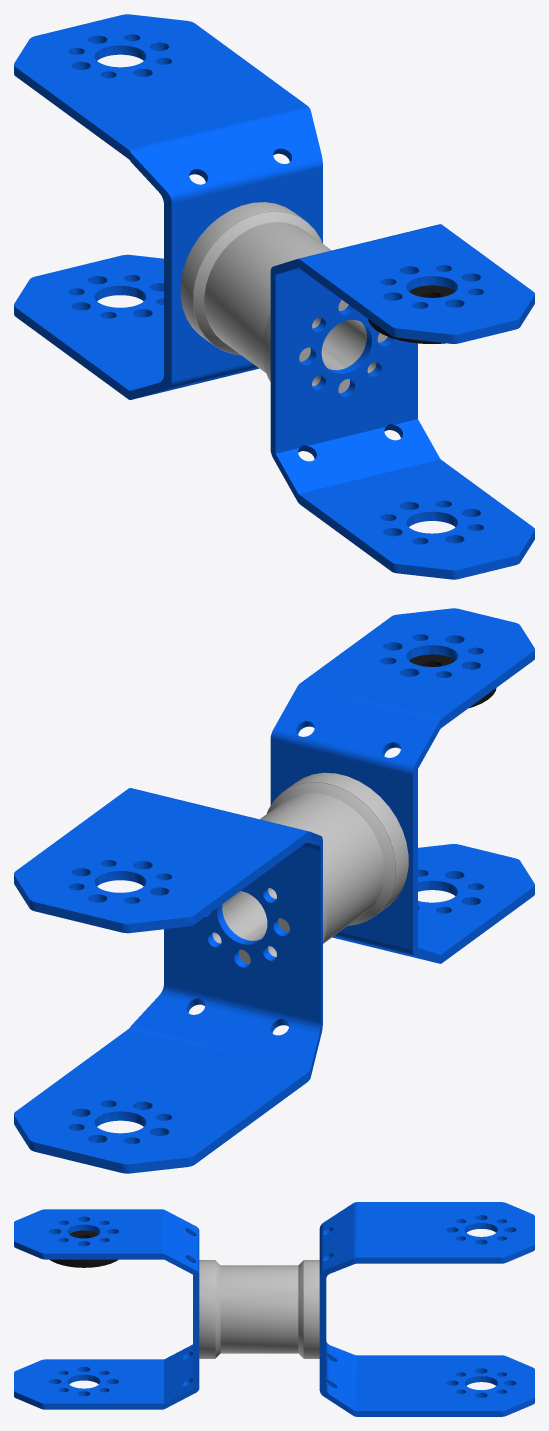
File: xarm-s5.obj
3 views of the same model, one above another, from view 1: azimuth 30°, elevation 25°; view 2: azimuth 150°, elevation 25°; view 3: azimuth 270°, elevation 25° (orthographic). The views are drawn at different scales.
Parts seen in each view (by area): view 1: Servo_5_Plate, Servo_5_to_Servo_4_Plate, Arm_5_to_4, Circumference.004; view 2: Servo_5_Plate, Servo_5_to_Servo_4_Plate, Arm_5_to_4; view 3: Servo_5_Plate, Servo_5_to_Servo_4_Plate, Arm_5_to_4, Circumference.004.
Boxes of the visible parts, x1,y1,x2,y2 form: Servo_5_Plate: (14,14,322,399); Servo_5_to_Servo_4_Plate: (270,224,534,579); Arm_5_to_4: (180,202,387,393); Circumference.004: (368,285,455,343); Servo_5_Plate: (14,788,322,1173); Servo_5_to_Servo_4_Plate: (270,608,534,963); Arm_5_to_4: (210,772,408,963); Servo_5_Plate: (319,1202,534,1416); Servo_5_to_Servo_4_Plate: (14,1209,199,1409); Arm_5_to_4: (199,1260,319,1358); Circumference.004: (49,1230,118,1267).
Size of the model in its own units: 32 by 42.6 by 126.
